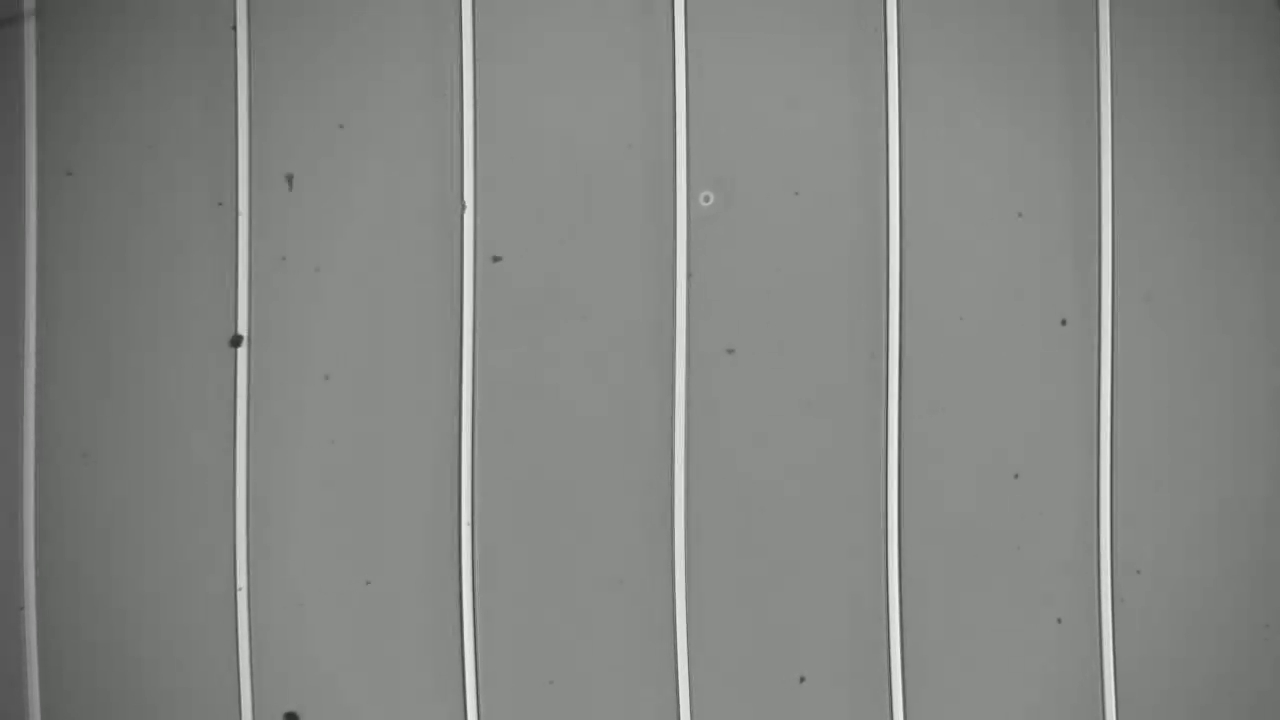stains_enbedded: (223, 326, 258, 353)
